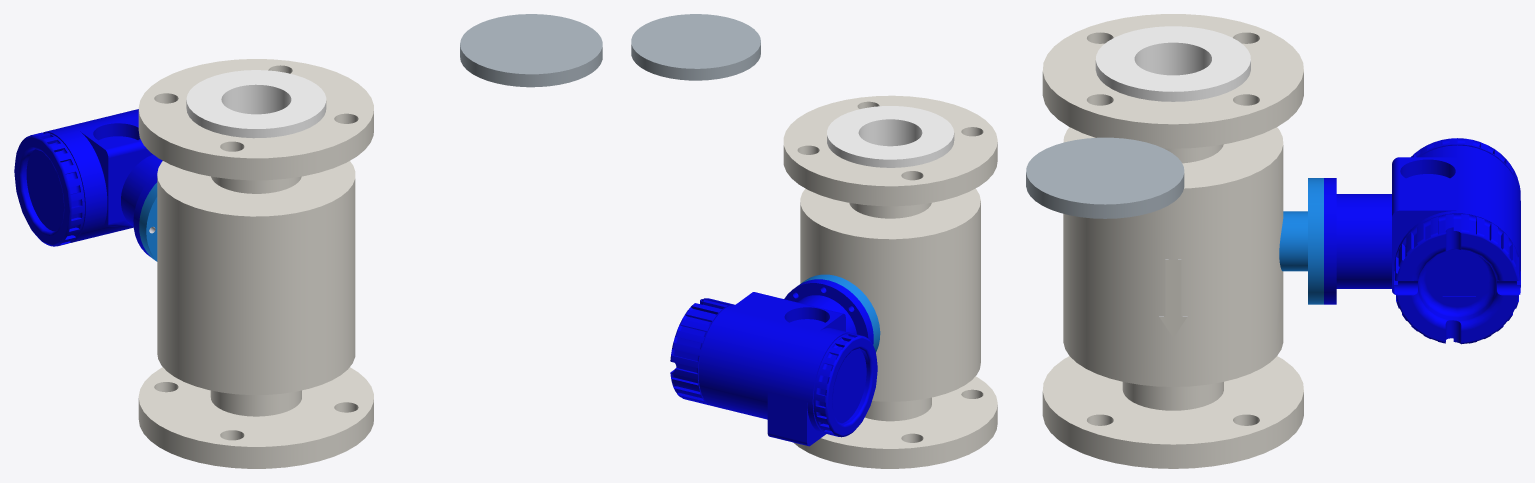
Rendered from res_1789460261518_115gg_底板.glb.
3 views of the same model, side by side, from view 1: azimuth 30°, elevation 25°; view 2: azimuth 150°, elevation 25°; view 3: azimuth 270°, elevation 25° (orthographic). The views are drawn at different scales.
Visible parts, largest first — view 1: Flow_Meter, Transmitter_screen (×2), 零件2; view 2: Flow_Meter, Transmitter_screen (×2), 零件2; view 3: Flow_Meter, Transmitter_screen (×2), 零件2.
Part boxes in pixels (box(x1,y1,x2,y2)): Flow_Meter: box(138, 59, 373, 468); Transmitter_screen (×2): box(14, 109, 162, 258); 零件2: box(460, 14, 602, 87); Flow_Meter: box(783, 95, 997, 468); Transmitter_screen (×2): box(670, 279, 877, 446); 零件2: box(631, 14, 760, 80); Flow_Meter: box(1042, 14, 1323, 468); Transmitter_screen (×2): box(1324, 138, 1520, 344); 零件2: box(1026, 137, 1184, 218).
Size of the model in its own units: 0.3298 by 0.2681 by 0.3123.
